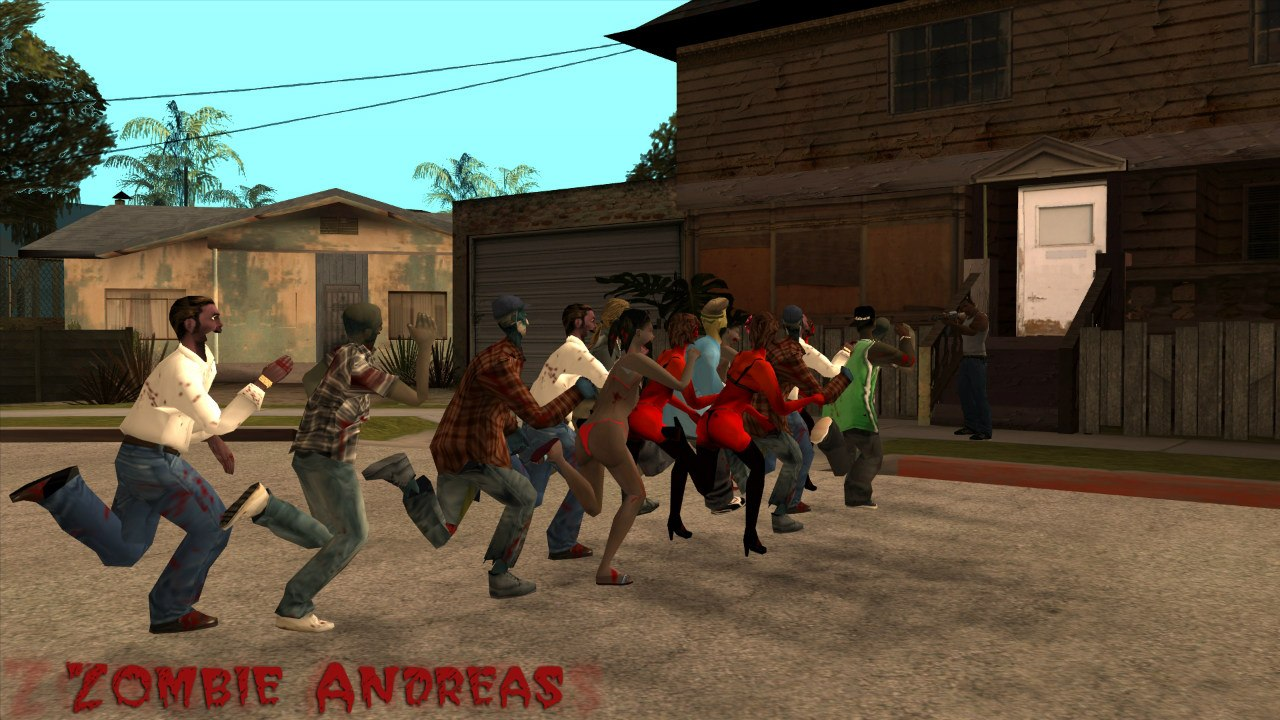person: (121, 295, 238, 637), (294, 302, 407, 643), (440, 300, 539, 619), (714, 312, 801, 557), (593, 317, 659, 585), (836, 308, 891, 503), (949, 281, 1007, 437)
